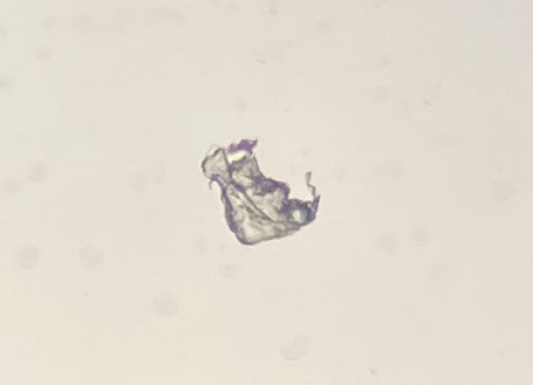microplastic: (202, 139, 320, 245)
